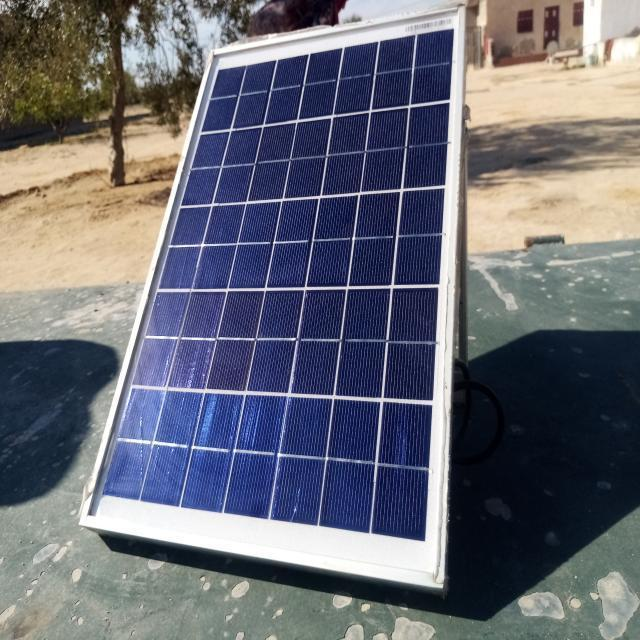Normal Solar Panel: (82, 0, 463, 591)
